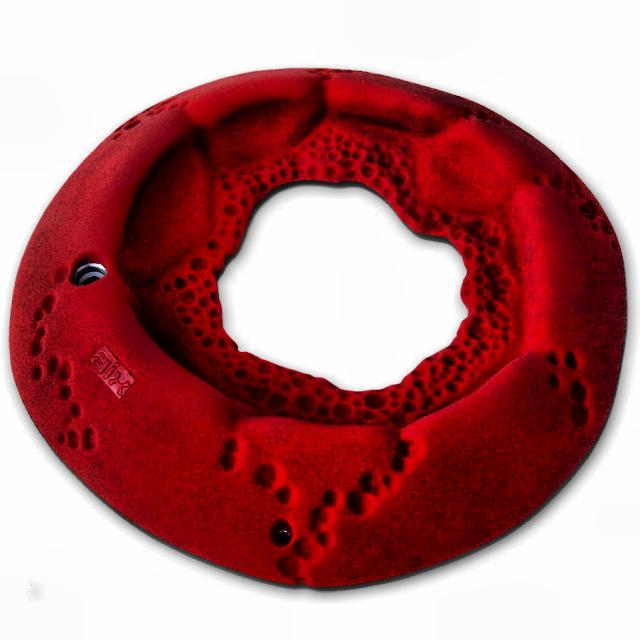Hold: (14, 67, 628, 593)
